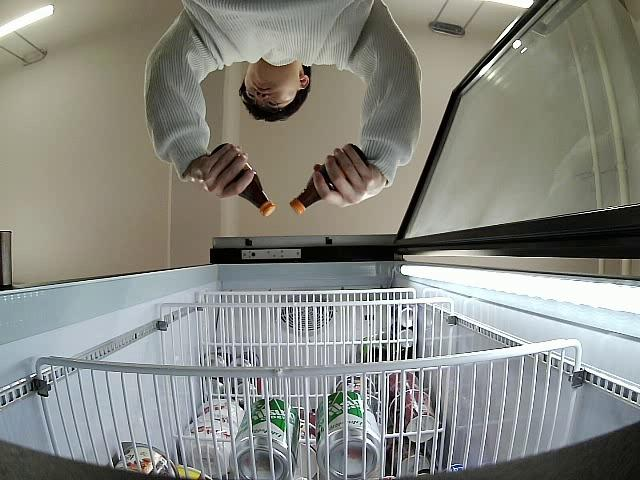00_hand: (310, 142, 386, 208), (189, 141, 258, 201)
17_vita500: (290, 144, 370, 215), (213, 143, 276, 219)
